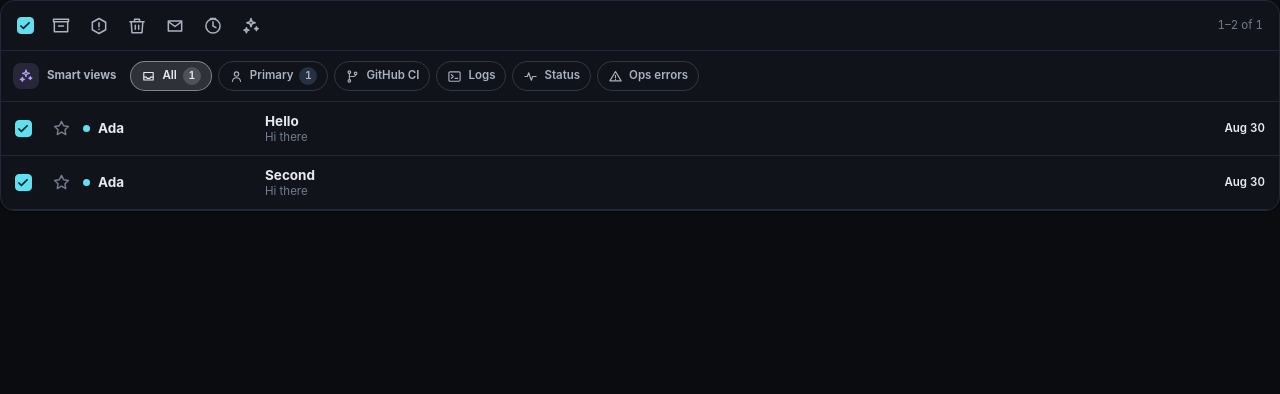
Test: MailList › acts on the whole checked selection when the row is part of it
Later steps or results of the test are not shown.
Right-click the button "Ada Hello Hi there Aug 30": coordinates (282, 120) [1, 102, 1279, 156]
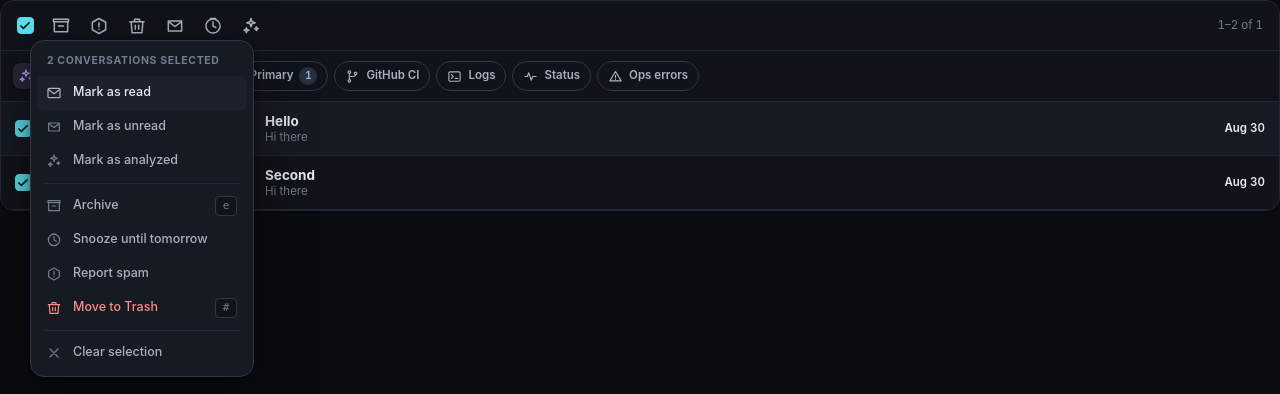
Check: the menu named "Actions for 2 conversations selected" is shown, box [30, 40, 254, 377]
